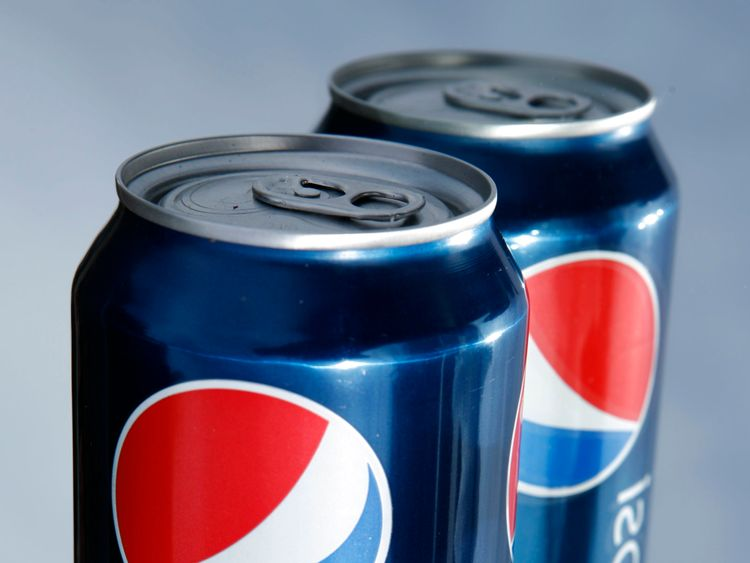pepsi: (110, 376, 393, 560), (513, 249, 659, 499)
